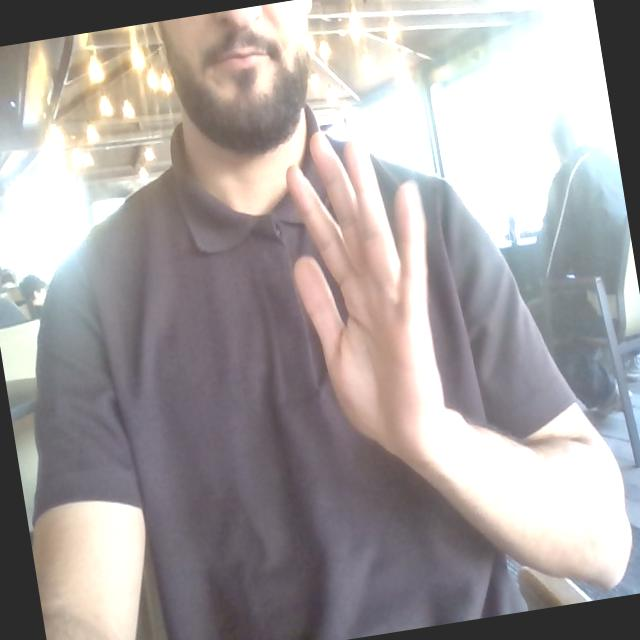Hand: (287, 134, 446, 462)
